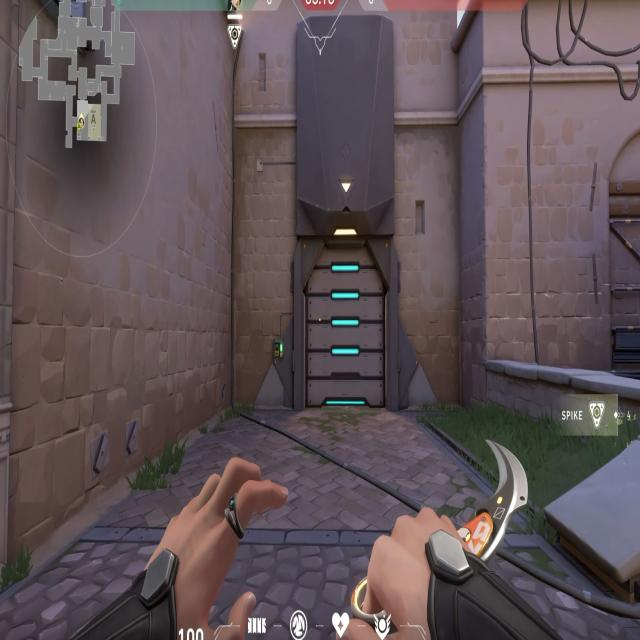A_Door: (286, 208, 404, 432)
